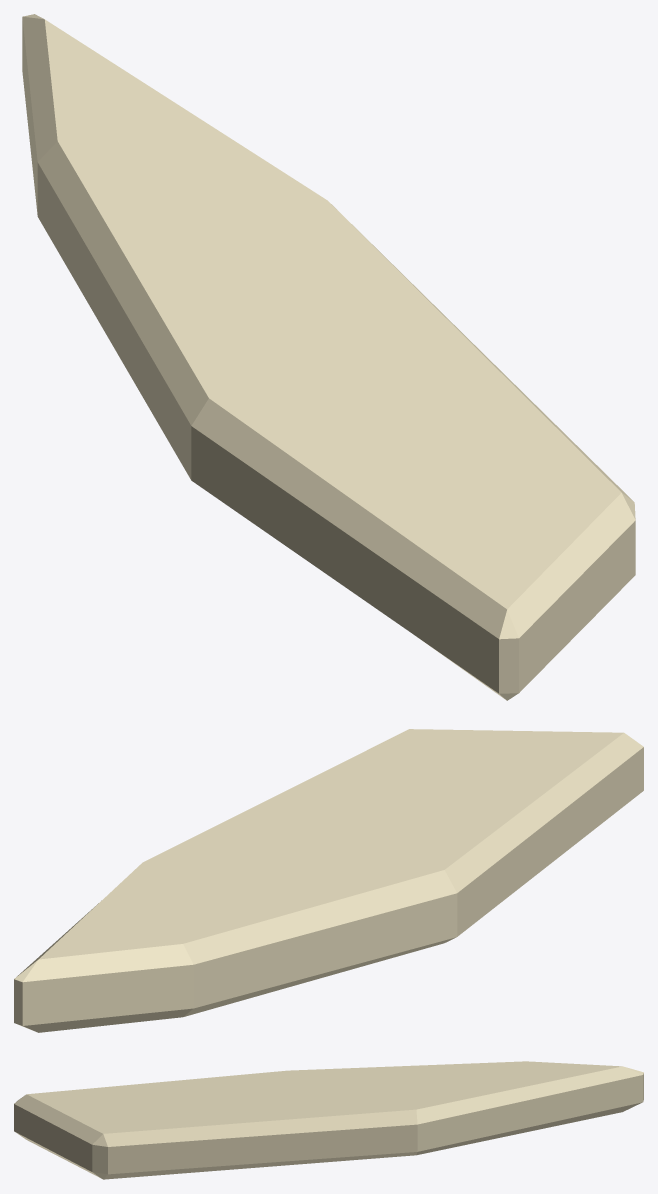
Rendered from fx_shard_bone.glb.
3 renders of one model, top to bottom at view 1: azimuth 30°, elevation 25°; view 2: azimuth 150°, elevation 25°; view 3: azimuth 270°, elevation 25°, orthographic. The views are drawn at different scales.
Parts seen in each view (by area): view 1: fx_shard_bone; view 2: fx_shard_bone; view 3: fx_shard_bone.
Part boxes in pixels (box(x1,y1,x2,y2)): fx_shard_bone: box(22, 14, 635, 700); fx_shard_bone: box(14, 729, 643, 1032); fx_shard_bone: box(14, 1061, 643, 1179).
Bounding box in the file's own units: 0.29 × 0.2092 × 1.12.
